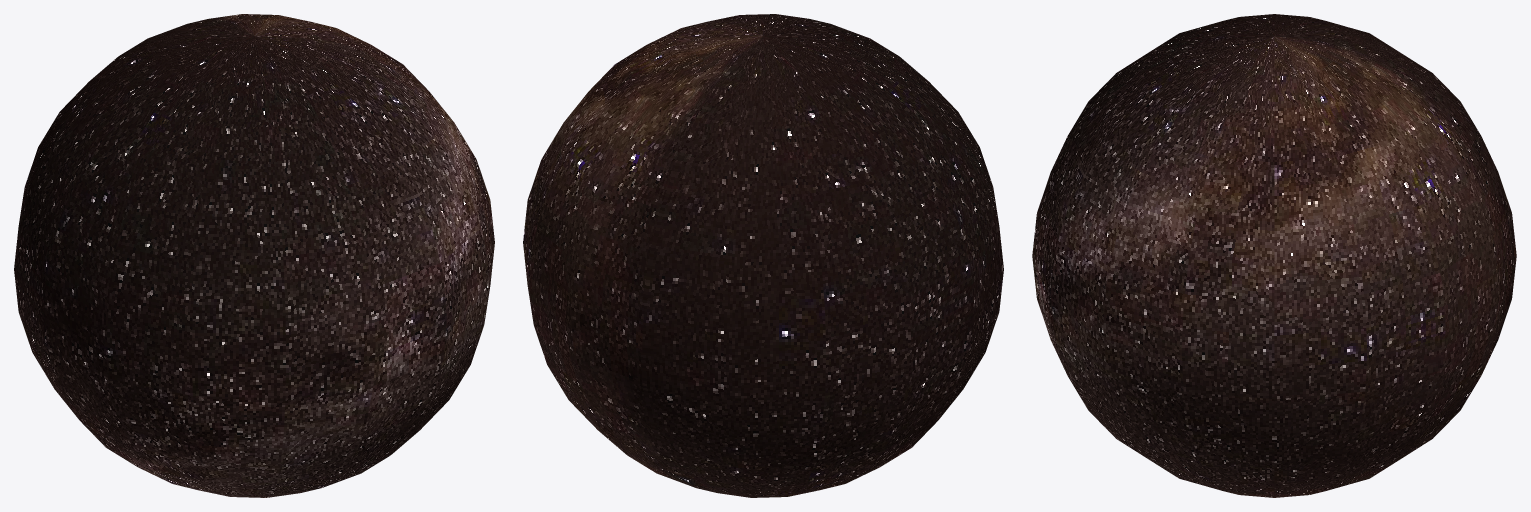
3 views of the same model, side by side, from view 1: azimuth 30°, elevation 25°; view 2: azimuth 150°, elevation 25°; view 3: azimuth 270°, elevation 25° (orthographic).
Visible parts, largest first — view 1: Space; view 2: Space; view 3: Space.
Boxes of the visible parts, box(x1,y1,x2,y2) form: Space: box(14, 14, 494, 497); Space: box(523, 14, 1003, 497); Space: box(1032, 14, 1516, 497).
Bounding box in the file's own units: 250 × 250 × 250.
Materials: 13 (13 with a texture image).
